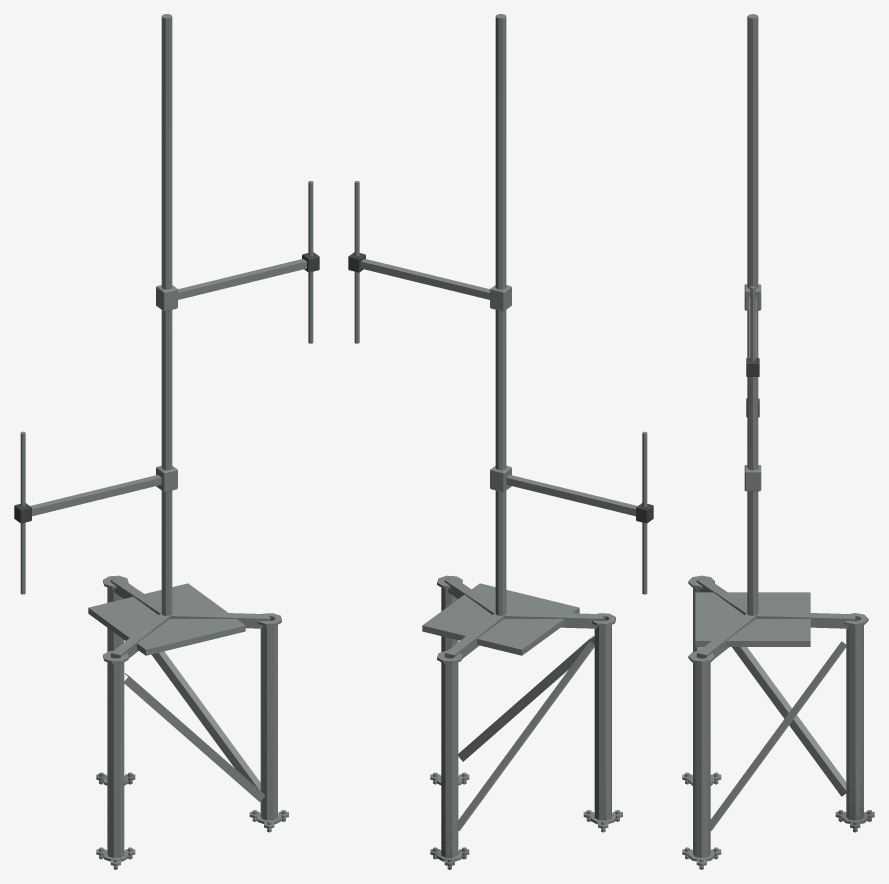
The model's file is hills_radio_mast_antenna.glb.
The picture shows the model from 3 angles, left to right: view 1: azimuth 30°, elevation 25°; view 2: azimuth 150°, elevation 25°; view 3: azimuth 270°, elevation 25°; orthographic projection.
Visible parts, largest first — view 1: MastAntenna; view 2: MastAntenna; view 3: MastAntenna.
Boxes of the visible parts, x1,y1,x2,y2 form: MastAntenna: (14, 14, 319, 869); MastAntenna: (348, 14, 653, 869); MastAntenna: (682, 14, 874, 869).
Size of what is drawn, in the model's own units: 1.56 by 4.03 by 0.8695.
Materials: 1 (1 with a texture image).
